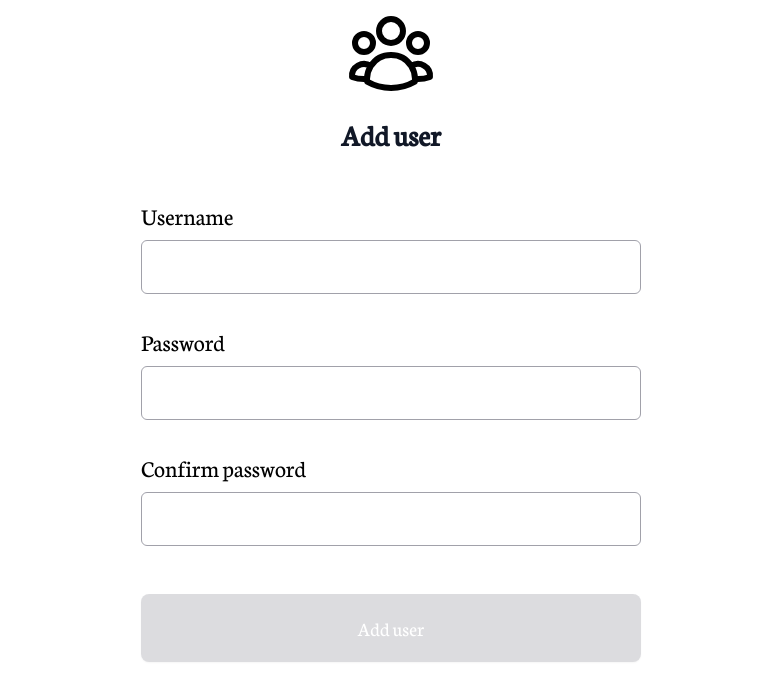
Add User page › invalid token response generates alert error
The image size is (783, 679).
Type "Test string" into the field labelled "Username" at coordinates (391, 267), box [141, 240, 641, 294]
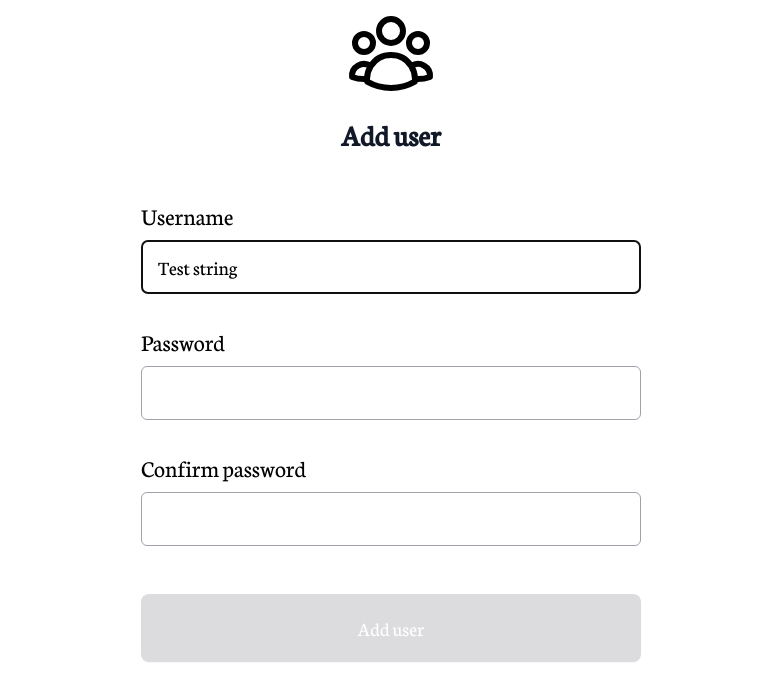
Type "Test string" into the password field labelled "Password" at coordinates (391, 393), box [141, 366, 641, 420]
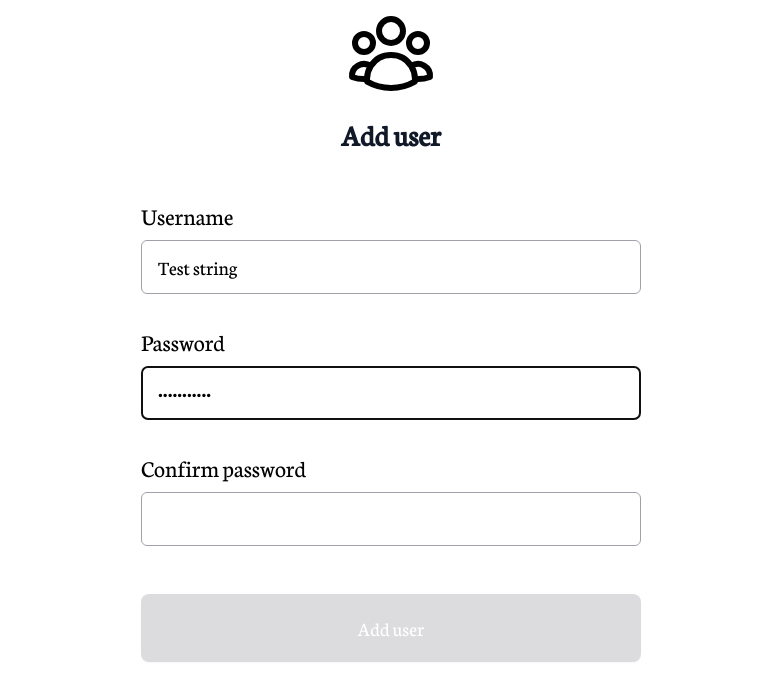
Type "Test string" into the password field labelled "Confirm password" at coordinates (391, 519), box [141, 492, 641, 546]
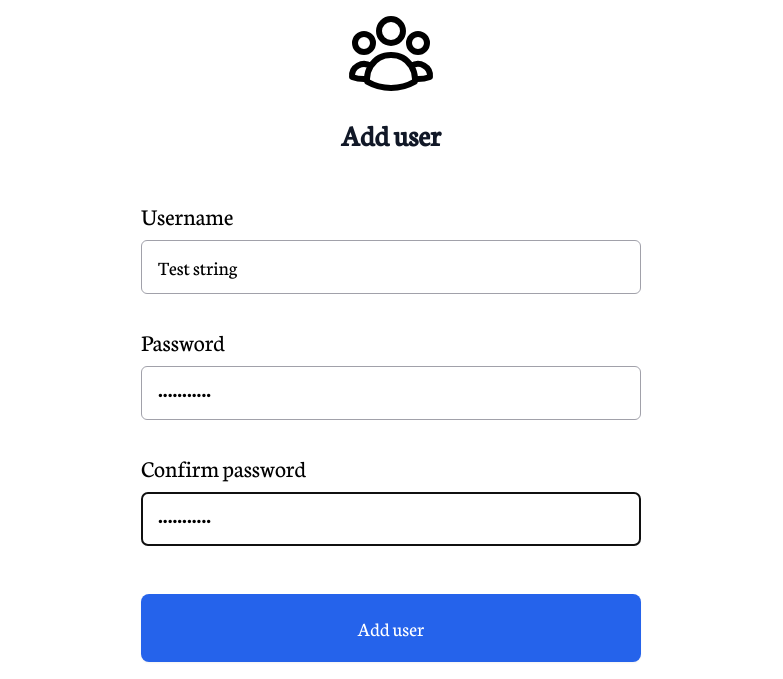
Click the button "Add user" at coordinates (391, 628), box [141, 594, 641, 662]
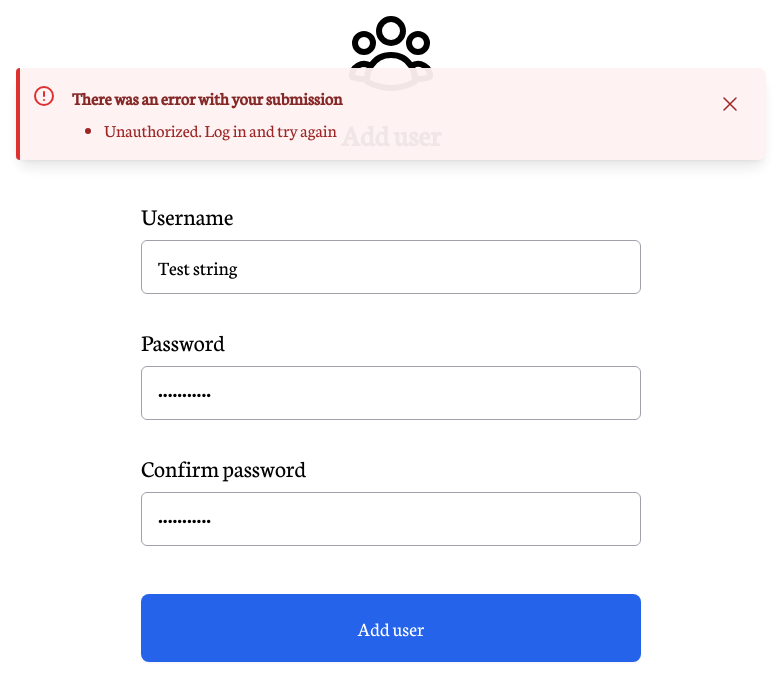
Expected: the message "There was an error with your submission Unauthorized. Log in and try again" is shown, [16, 68, 766, 160]
Expected: the number of list items is 1, [104, 116, 342, 144]
Expected: the list item reads "Unauthorized. Log in and try again", [104, 118, 337, 141]
